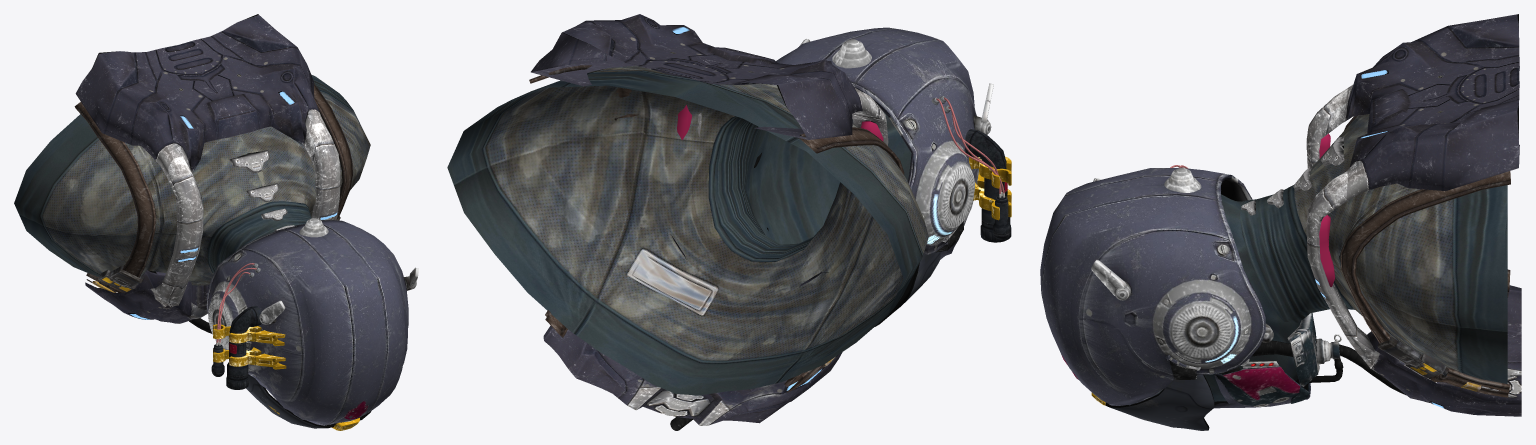
File: helmet.glb
3 renders of one model, left to right at view 1: azimuth 30°, elevation 25°; view 2: azimuth 150°, elevation 25°; view 3: azimuth 270°, elevation 25°, orthographic. The views are drawn at different scales.
Visible parts, largest first — view 1: preselection_secondary, RETOPO_8.001; view 2: preselection_secondary, RETOPO_8.001; view 3: preselection_secondary, RETOPO_8.001.
Part boxes in pixels (box(x1,y1,x2,y2)): preselection_secondary: box(14, 74, 418, 428); RETOPO_8.001: box(75, 14, 359, 430); preselection_secondary: box(447, 27, 993, 430); RETOPO_8.001: box(531, 14, 1011, 425); preselection_secondary: box(1040, 114, 1510, 430); RETOPO_8.001: box(1091, 14, 1521, 416).
Bounding box in the file's own units: 11.44 × 9.35 × 11.37.
3 materials, 3 textured.
